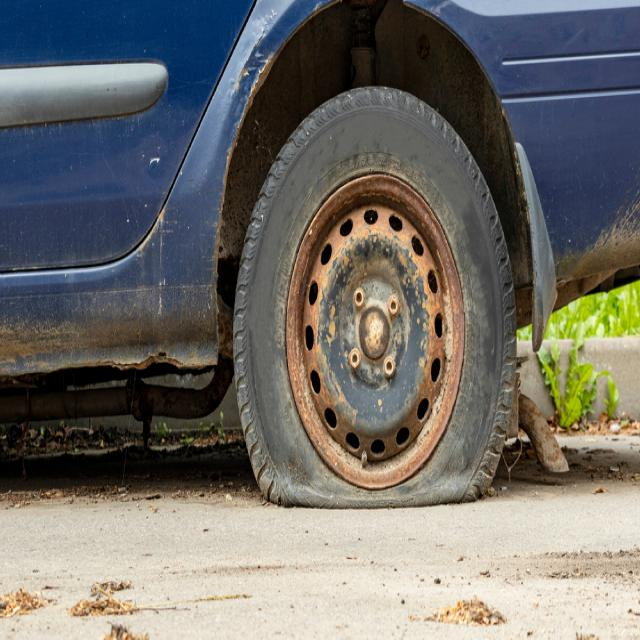tire flat: (232, 85, 518, 509)
